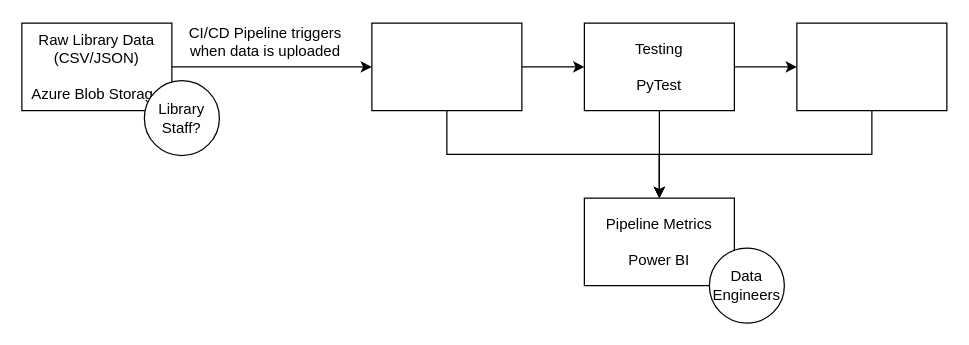
This 969x345 diagram has some shape labels left out. Here are the shapes that lost their labels. From the top down, the centre of each, then its label:
the point at 446,66: Processing (Clean data & Calculate Metrics) Python Script
the point at 871,66: Clean Data Storage Azure Blob Storage
